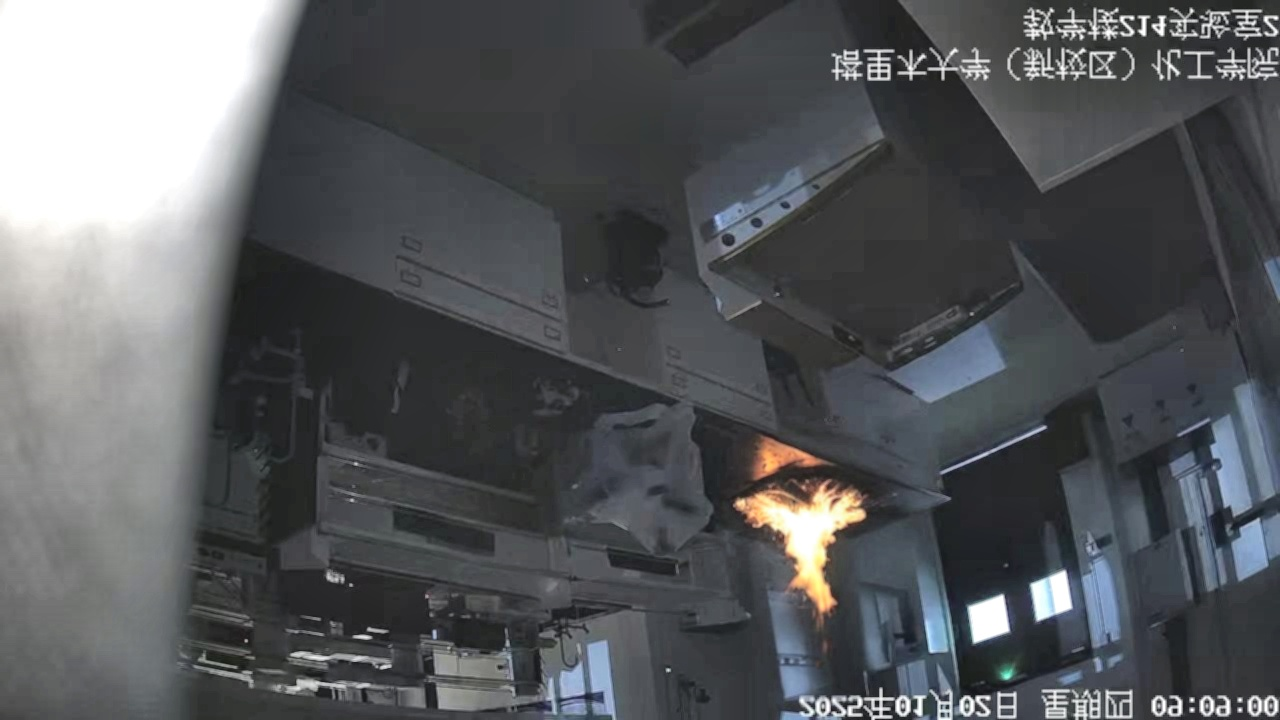fire: (716, 439, 905, 651)
